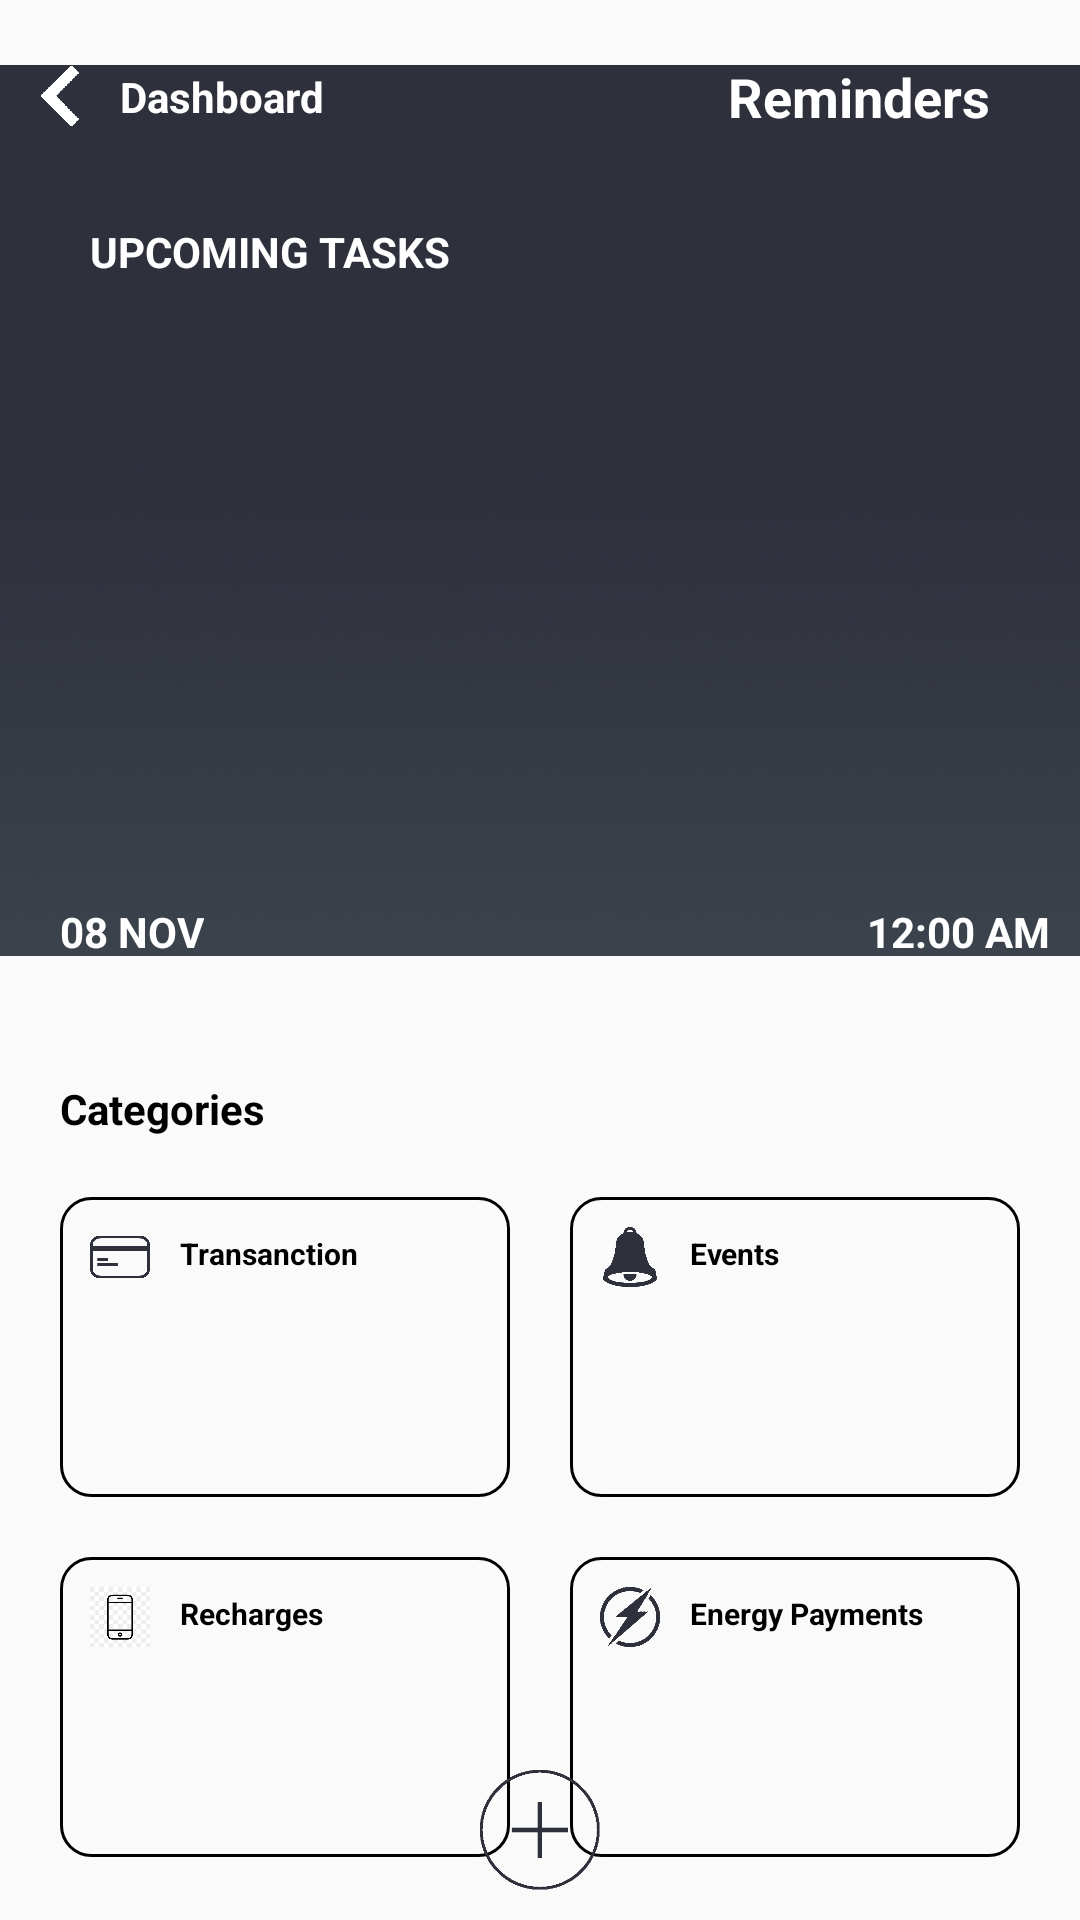

Icons on this 1080*1920 Android screen, each with its box as (x1=x1, y1=y1, x2=x2, y2=y2):
add: (x1=480, y1=1770, x2=600, y2=1890)
back: (x1=41, y1=66, x2=79, y2=126)
card: (x1=90, y1=1236, x2=150, y2=1278)
electricity: (x1=600, y1=1587, x2=660, y2=1647)
phone: (x1=107, y1=1594, x2=133, y2=1640)
reminder: (x1=603, y1=1227, x2=657, y2=1287)
